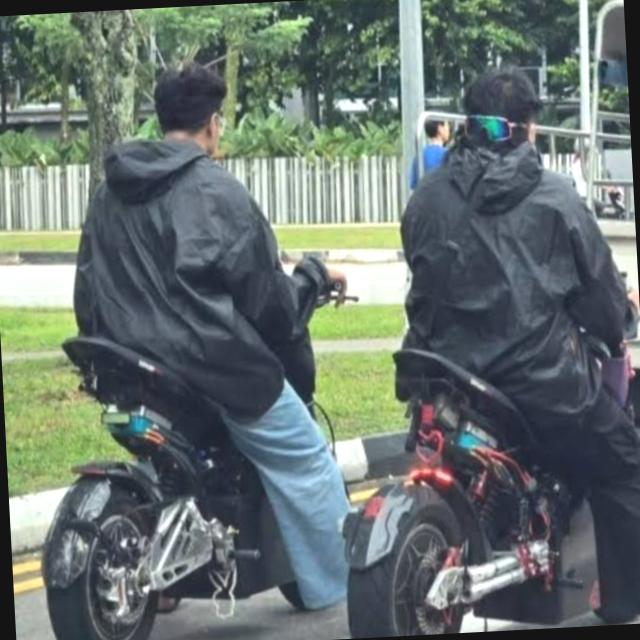WithoutHelmet: (62, 56, 363, 622), (389, 61, 640, 634)
